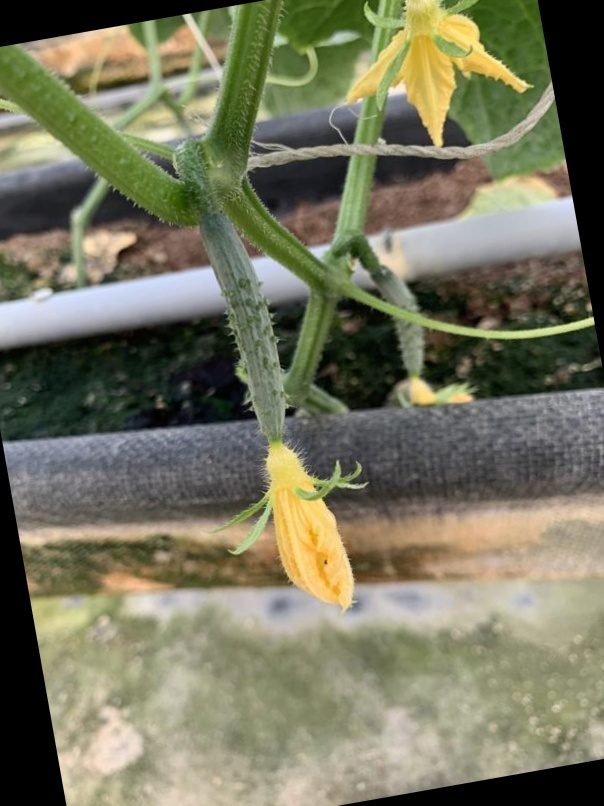bear: (191, 209, 357, 604)
